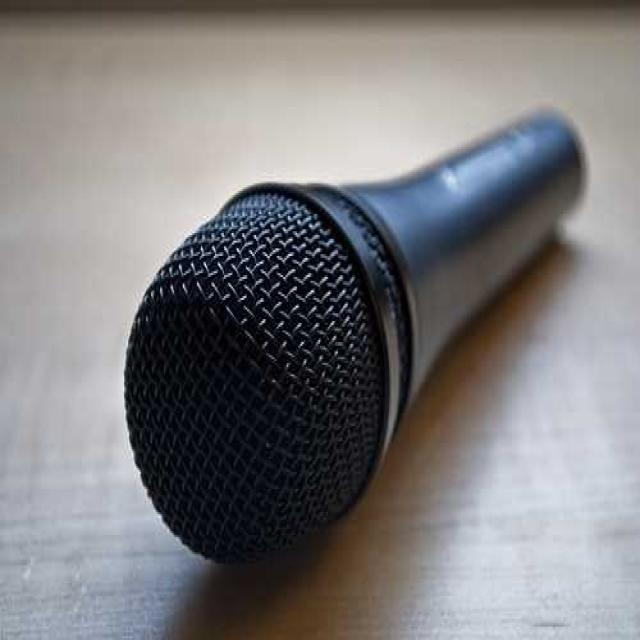microphone: (129, 106, 578, 562)
